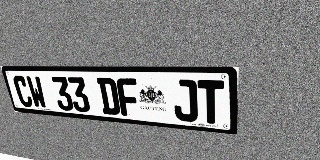3: (67, 77, 91, 113), (51, 76, 74, 111)
C: (12, 76, 34, 108)
D: (96, 77, 121, 115)
F: (116, 78, 141, 117)
J: (172, 79, 198, 122)
T: (197, 80, 224, 125)
W: (25, 76, 48, 109)
